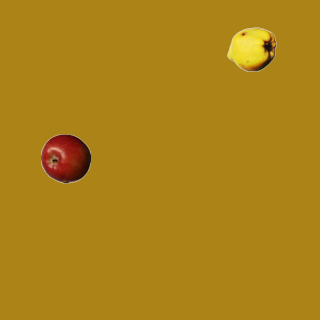Apple Braeburn: (40, 133, 90, 183)
Quince: (226, 24, 276, 74)
